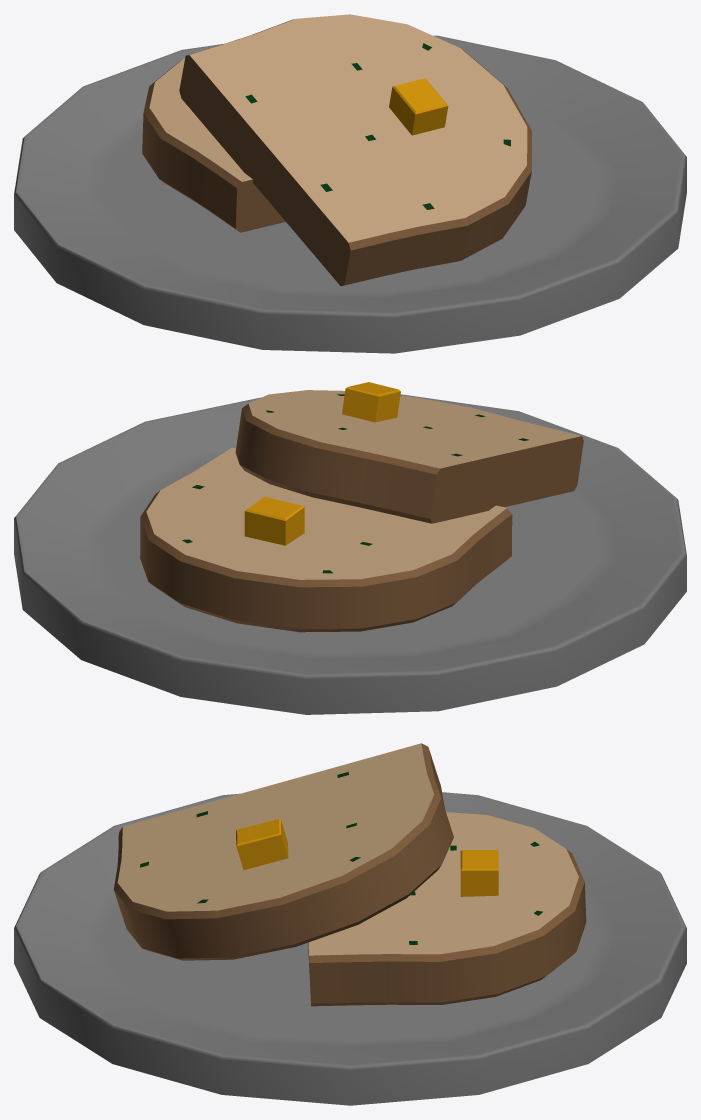
File: BreadServing.fbx
3 renders of one model, top to bottom at view 1: azimuth 30°, elevation 25°; view 2: azimuth 150°, elevation 25°; view 3: azimuth 270°, elevation 25°, orthographic.
Parts seen in each view (by area): view 1: BreadServing, Bread1, Bread, Butter; view 2: BreadServing, Bread, Bread1, Butter (×2); view 3: BreadServing, Bread1, Bread, Butter (×2).
Boxes of the visible parts, x1,y1,x2,y2 form: BreadServing: [14, 35, 686, 353]; Bread1: [179, 14, 531, 286]; Bread: [142, 58, 285, 232]; Butter: [389, 78, 448, 135]; BreadServing: [14, 394, 686, 714]; Bread: [140, 447, 512, 632]; Bread1: [235, 390, 583, 523]; Butter (×2): [244, 382, 400, 545]; BreadServing: [14, 792, 686, 1105]; Bread1: [113, 743, 453, 960]; Bread: [308, 812, 586, 1006]; Butter (×2): [236, 819, 498, 896].
Size of the model in its own units: 14.42 by 4.14 by 14.42.
